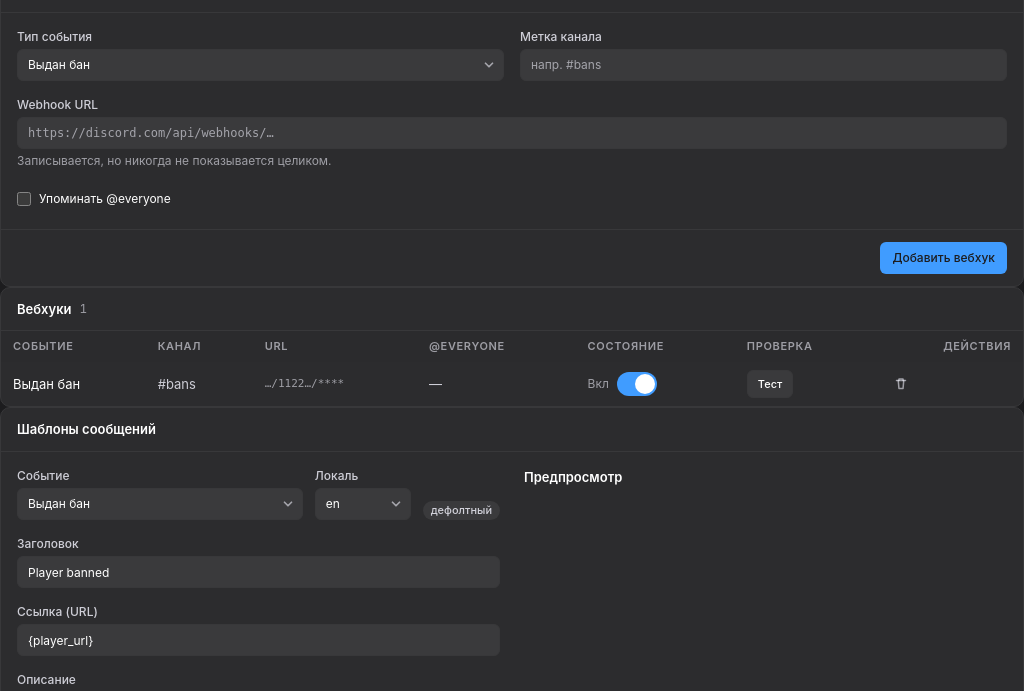
Test case: Тест button › renders one per webhook row and shows success after a 2xx response
The width and height of the screenshot is (1024, 691).
(page scrolled)
Step 1. Click the button "Тест" → point(770, 384), box [747,370,793,398]
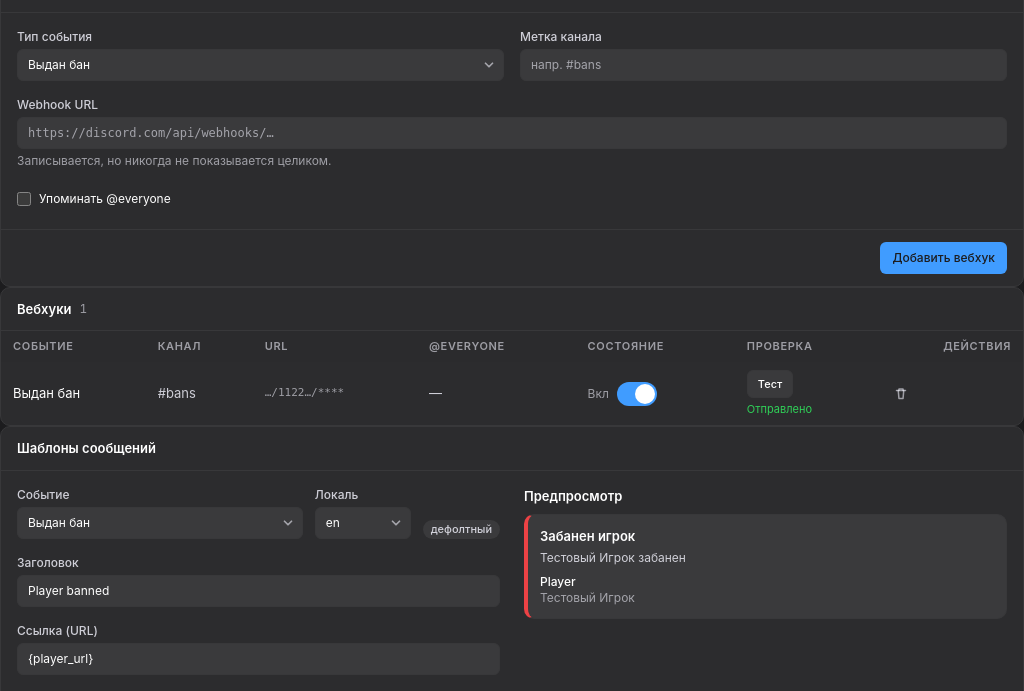
Check: the text "Отправлено" is shown, box [747,402,812,417]
